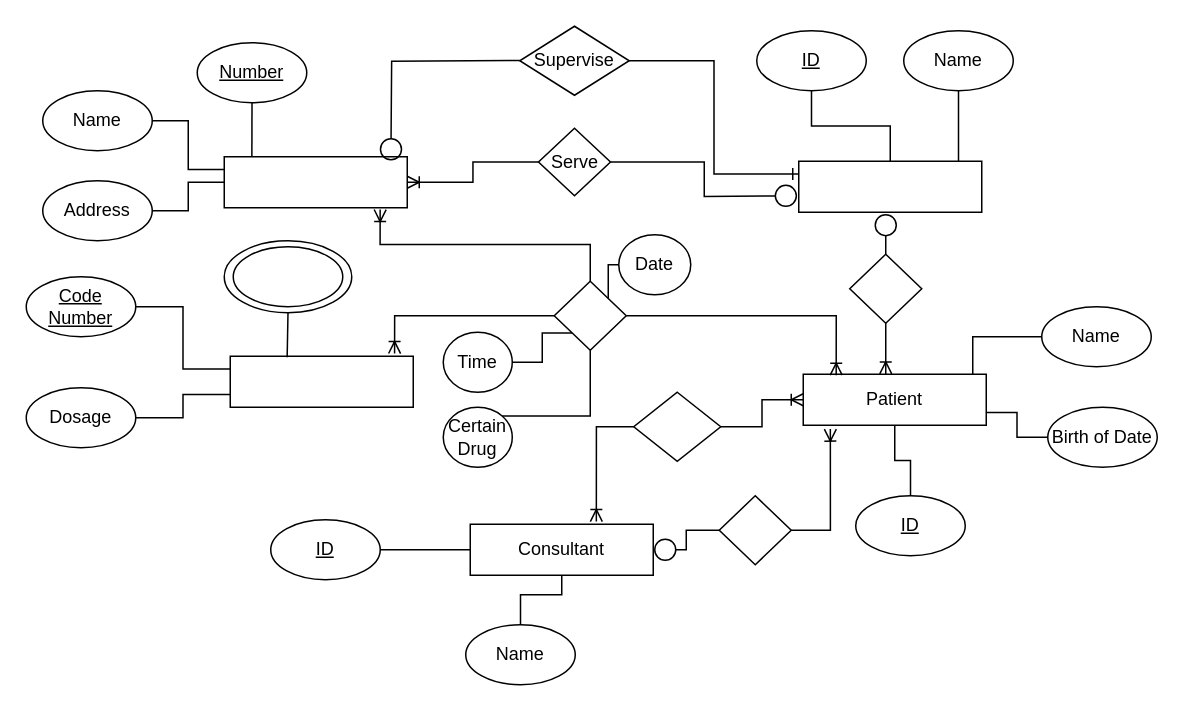
This 1184x711 diagram has some shape labels left out. The shapes that lost their labels are listed below. From the top down, each one's box as (x1, y1, x2, y2) in pixels, then its label:
(223, 155, 407, 208): Nurse
(797, 160, 982, 212): Ward
(232, 245, 343, 307): Brand Name
(848, 253, 922, 323): Host
(553, 280, 626, 350): Record
(229, 355, 413, 407): Drug
(632, 391, 721, 461): Examine
(718, 494, 791, 565): Assign
